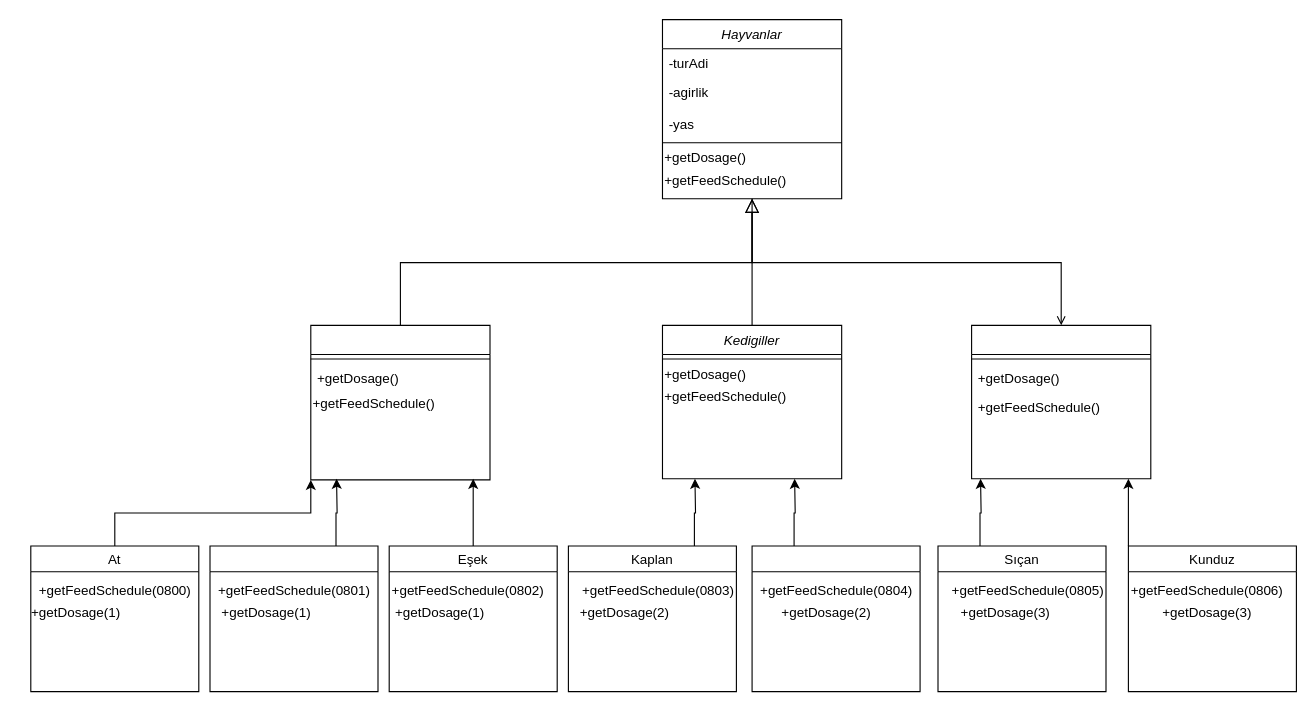
The diagram is 1316 pixels wide and 711 high, and some of its shapes have lost their labels. The shapes that lost their labels are listed below. From the top down, each one's box as (x1, y1, x2, y2) in pixels, then its label:
(310, 324, 490, 480): Atlar
(970, 324, 1151, 479): Kemirgenler
(209, 545, 378, 692): Zebra
(751, 545, 920, 692): Aslan
